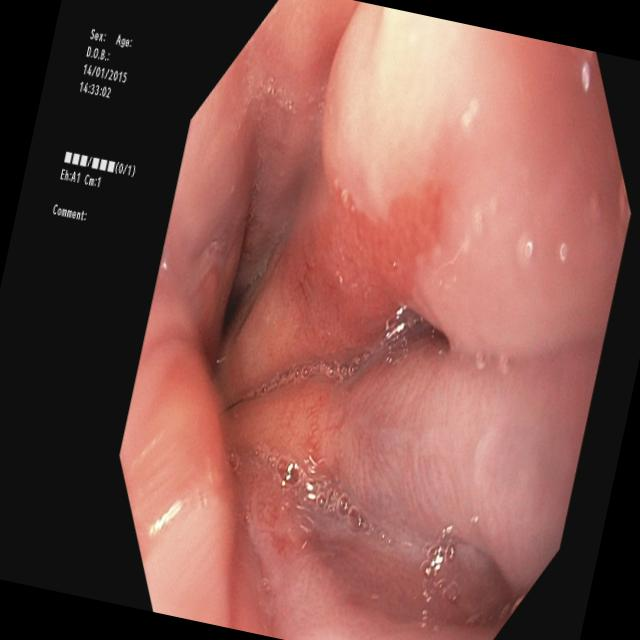esophagitis: (118, 122, 454, 620)
